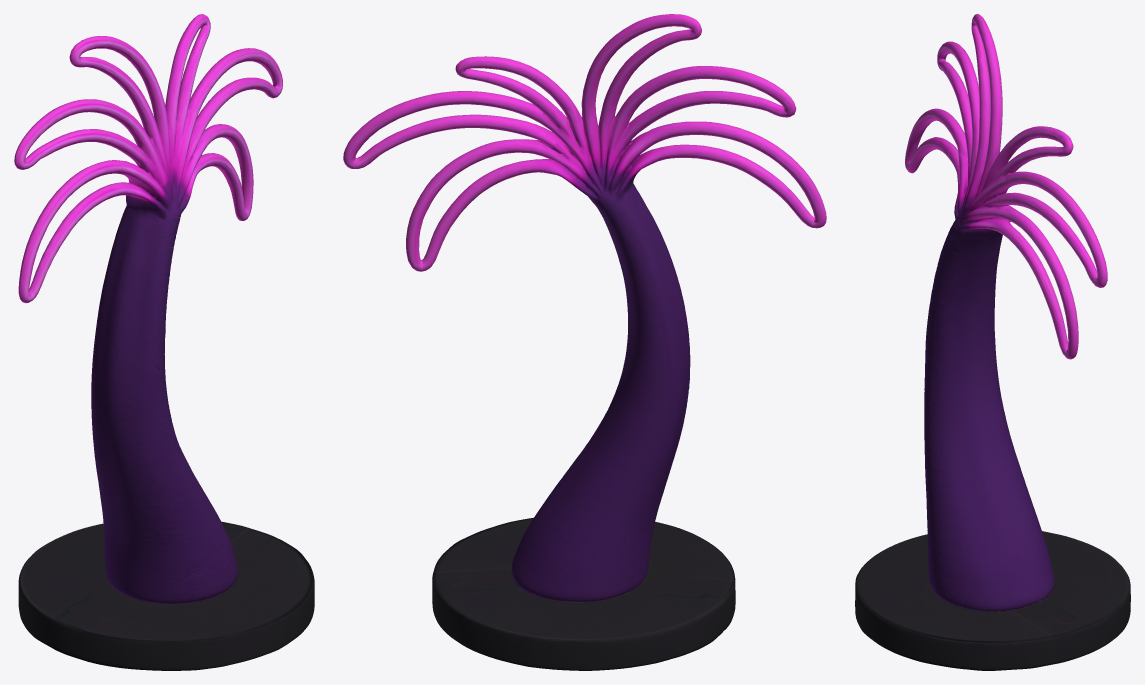
Rendered from neon-palm.glb.
The picture shows the model from 3 angles, left to right: view 1: azimuth 30°, elevation 25°; view 2: azimuth 150°, elevation 25°; view 3: azimuth 270°, elevation 25°; orthographic projection. The views are drawn at different scales.
Visible parts, largest first — view 1: tripo_node_348e3c45-9bc0-4aa8-b214-63188102b15d; view 2: tripo_node_348e3c45-9bc0-4aa8-b214-63188102b15d; view 3: tripo_node_348e3c45-9bc0-4aa8-b214-63188102b15d.
Boxes of the visible parts, bbox=[...] form: tripo_node_348e3c45-9bc0-4aa8-b214-63188102b15d: bbox=[14, 14, 314, 670]; tripo_node_348e3c45-9bc0-4aa8-b214-63188102b15d: bbox=[343, 14, 826, 670]; tripo_node_348e3c45-9bc0-4aa8-b214-63188102b15d: bbox=[855, 14, 1130, 670].
Size of the model in its own units: 0.6302 by 0.9799 by 0.4395.
Materials: 1 (1 with a texture image).
